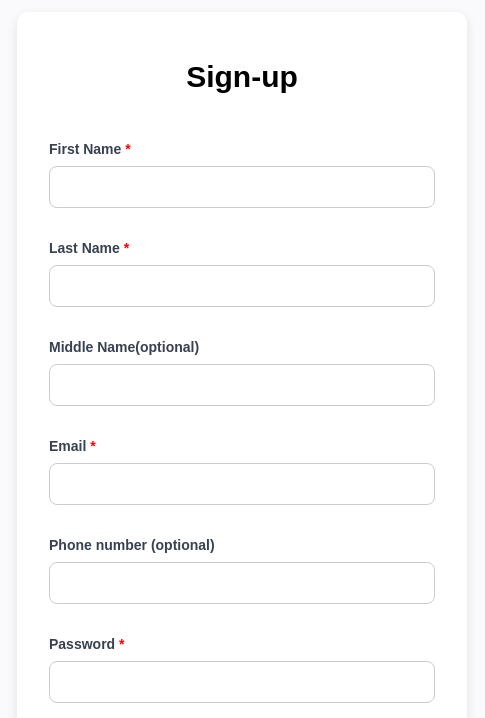
Test: prevents submission when required fields are missing
// Missing last name and confirm password
Type "Joe" into the field labelled "First Name". click: x=242, y=187
box: top-left (49, 166), bottom-right (435, 208)
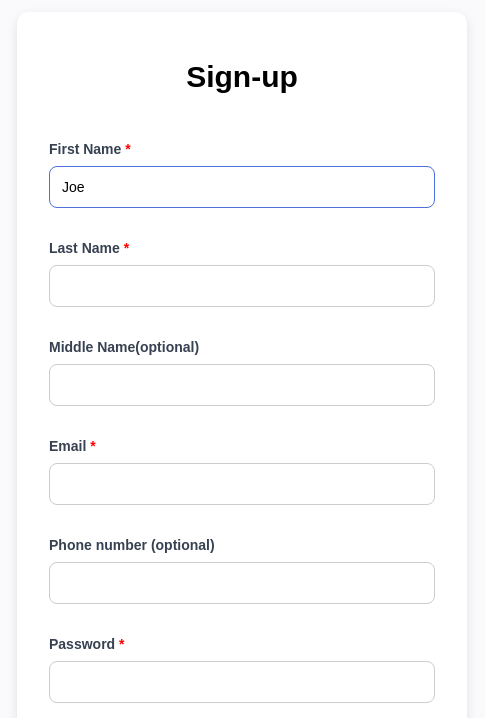
Type "joebloggs@gmail.com" into the field labelled "Email". click: x=242, y=484
box: top-left (49, 463), bottom-right (435, 505)
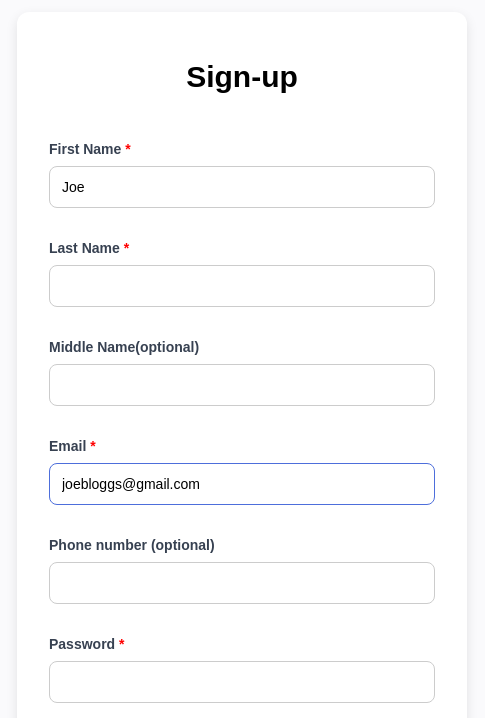
Type "testPassword123$" into the password field labelled "Password". click: x=242, y=682
box: top-left (49, 661), bottom-right (435, 703)
(page scrolled)
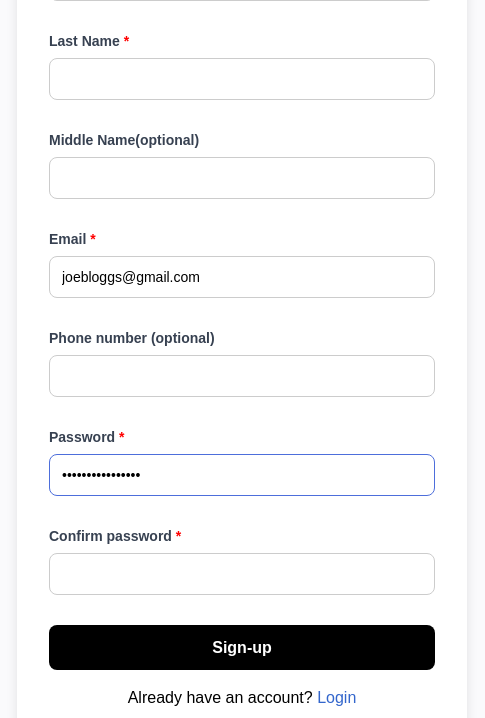
// Submit form
Click the button "Sign-up". click: x=242, y=648
box: top-left (49, 625), bottom-right (435, 670)
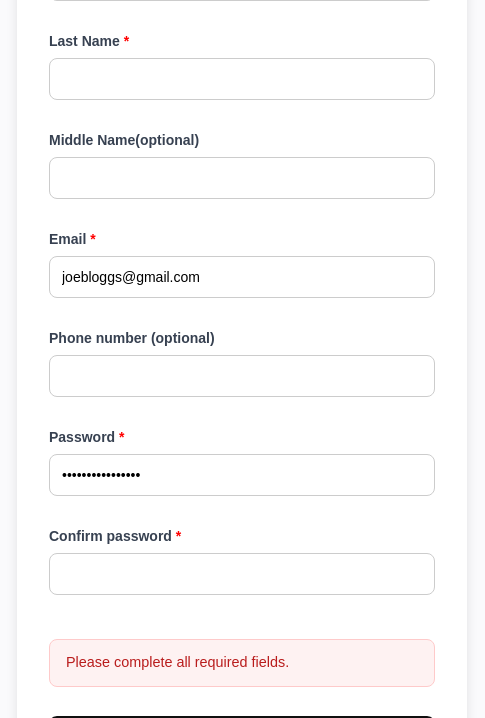
Expected: the text "Please complete all required fields." is shown, top-left (49, 639), bottom-right (435, 687)
